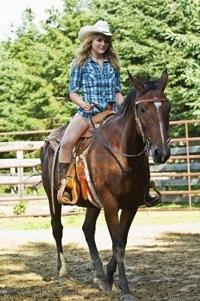person: (58, 17, 163, 211)
